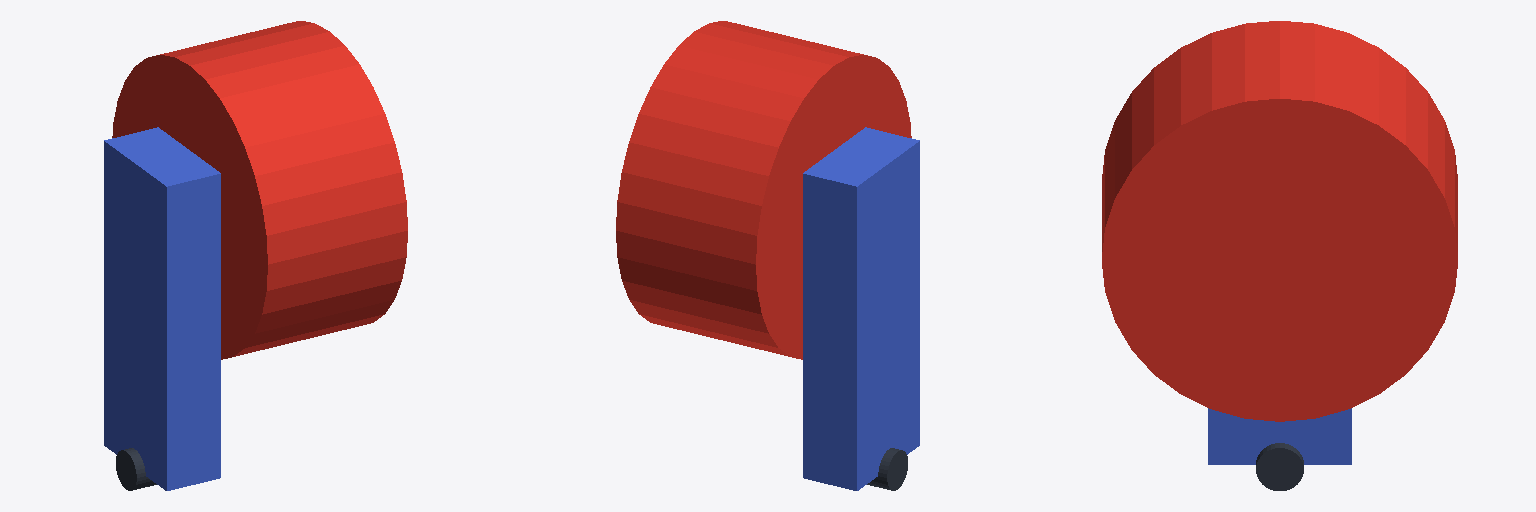
URDF robot description (camel_momentum_inverted_pendulum):
<?xml version="1.0" ?>
<robot name = "camel_momentum_inverted_pendulum">

  <material name="red">
    <color rgba="0.914 0.263 0.212 0.9"/>
  </material>

  <material name="stylish">
    <color rgba="0.243 0.271 0.318 0.9"/>
  </material>

  <material name="lime">
    <color rgba="0.804 0.863 0.223 0.9"/>
  </material>

  <material name="blue">
    <color rgba="0.329 0.463 0.890 0.9 "/>
  </material>

  <link name="world"/>
  <joint name="fixed_world" type="fixed">
    <parent link="world"/>
    <child link="base"/>
  </joint>

  <link name="base">
    <visual>
      <origin rpy="0 1.570796 0 " xyz="0 0 0.01275"/>
      <geometry>
        <cylinder length="0.02" radius="0.005"/>
      </geometry>
      <material name="stylish"/>
    </visual>
  </link>

  <joint name="base-roll" type="continuous">
    <origin rpy="0 0 0" xyz="0 0 0.01275"/>
    <parent link="base"/>
    <child link="rod"/>
    <axis xyz="1 0 0"/>
  </joint>

  <link name="rod">
    <visual>
      <origin rpy="0.0 0 0" xyz="0 0 0.04"/>
      <geometry>
        <box size="0.015 0.030 0.08"/>
      </geometry>
      <material name="blue"/>
    </visual>

    <inertial>
      <mass value="0.0425"/>
      <inertia ixx="2.59e-5" ixy="0.0" ixz="0.0" iyy="2.35e-5" iyz="0.0" izz="3.98e-6"/>
    </inertial>

    <collision>
      <origin rpy="0.0 0 0" xyz="0 0 0.04"/>
      <geometry>
        <box size="0.015 0.03 0.08"/>
      </geometry>
    </collision>
  </link>

  <joint name="motor-revolute" type="revolute">
    <origin rpy="0 0 0" xyz="0.02675 0.0 0.065"/>
    <parent link="rod"/>
    <child link="motor"/>
    <axis xyz = "1 0 0"/>
    <limit velocity= "17"/>
  </joint>

  <link name="motor">
    <visual>
      <origin rpy="0 1.570796 0" xyz="0 0 0"/>
      <geometry>
        <cylinder length="0.0385" radius="0.0372"/>
      </geometry>
      <material name="red"/>
    </visual>

    <inertial>
      <mass value="0.335"/>
      <inertia ixx="2.42e-4" ixy="0.0" ixz="0.0" iyy="1.53e-4" iyz="0.0" izz="1.53e-4"/>
    </inertial>
  </link>




</robot>

--- Facts derived from the render (not from the file) ---
3 views of the same robot in one strip: view 1: azimuth 30°, elevation 25°; view 2: azimuth 150°, elevation 25°; view 3: azimuth 270°, elevation 25° (orthographic).
Model camel_momentum_inverted_pendulum with 4 links and 3 joints (1 revolute, 1 continuous, 1 fixed), rooted at world, posed all joints at 0.
Visible links, largest first — view 1: motor, rod, base; view 2: motor, rod, base; view 3: motor, rod, base.
Boxes of the visible links, x1,y1,x2,y2 form: motor: (112, 21, 407, 359); rod: (104, 127, 220, 490); base: (116, 448, 156, 490); motor: (616, 21, 911, 359); rod: (803, 127, 919, 490); base: (867, 448, 907, 490); motor: (1102, 21, 1457, 421); rod: (1208, 408, 1351, 464); base: (1256, 443, 1303, 490).
Bounding box of the posed robot: 0.056 × 0.0744 × 0.1072 m (x, y, z).
Geometry: primitives only (box / cylinder / sphere), no mesh files.